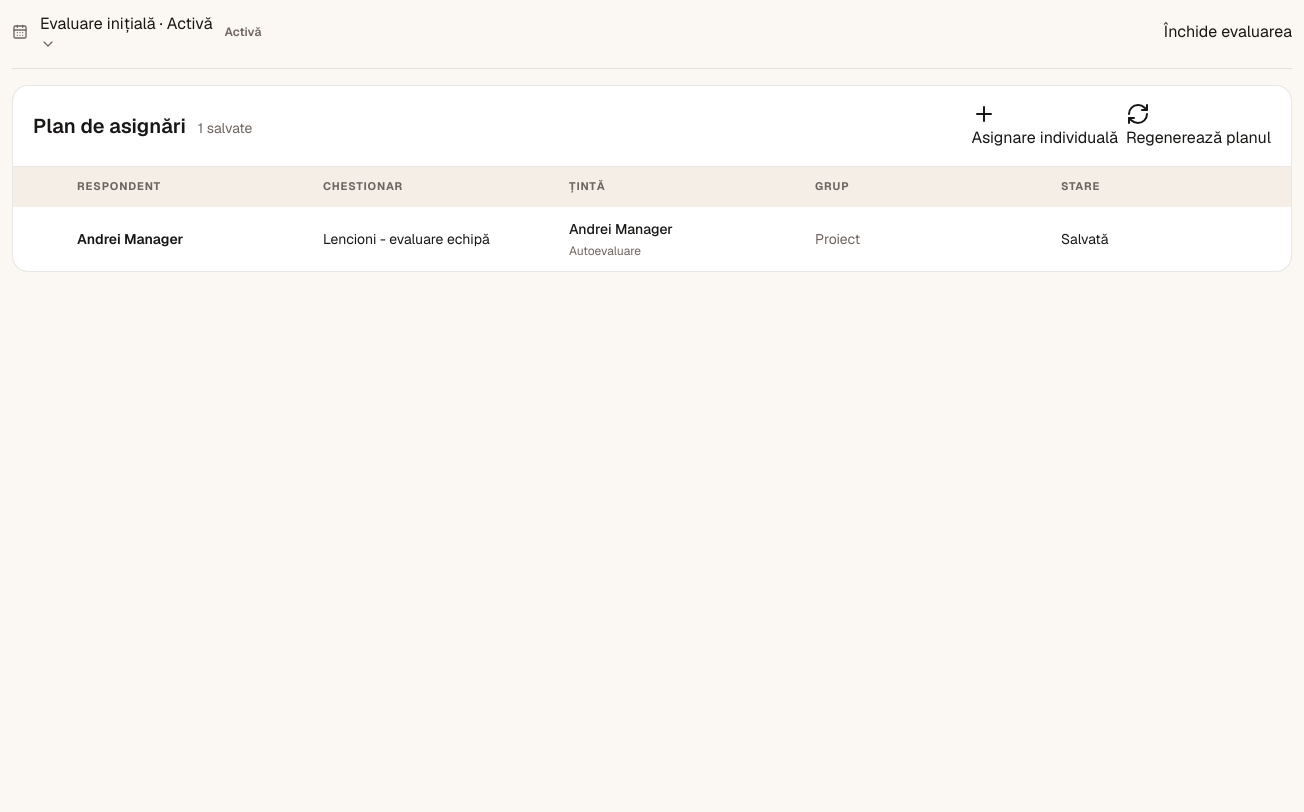
Test case: buildInvitationRows › separates self and person targets inside the same plan scope
The image size is (1304, 812).
Click the button "Regenerează planul". click: click(1198, 126)
box: x1=1126 y1=102 x2=1271 y2=150
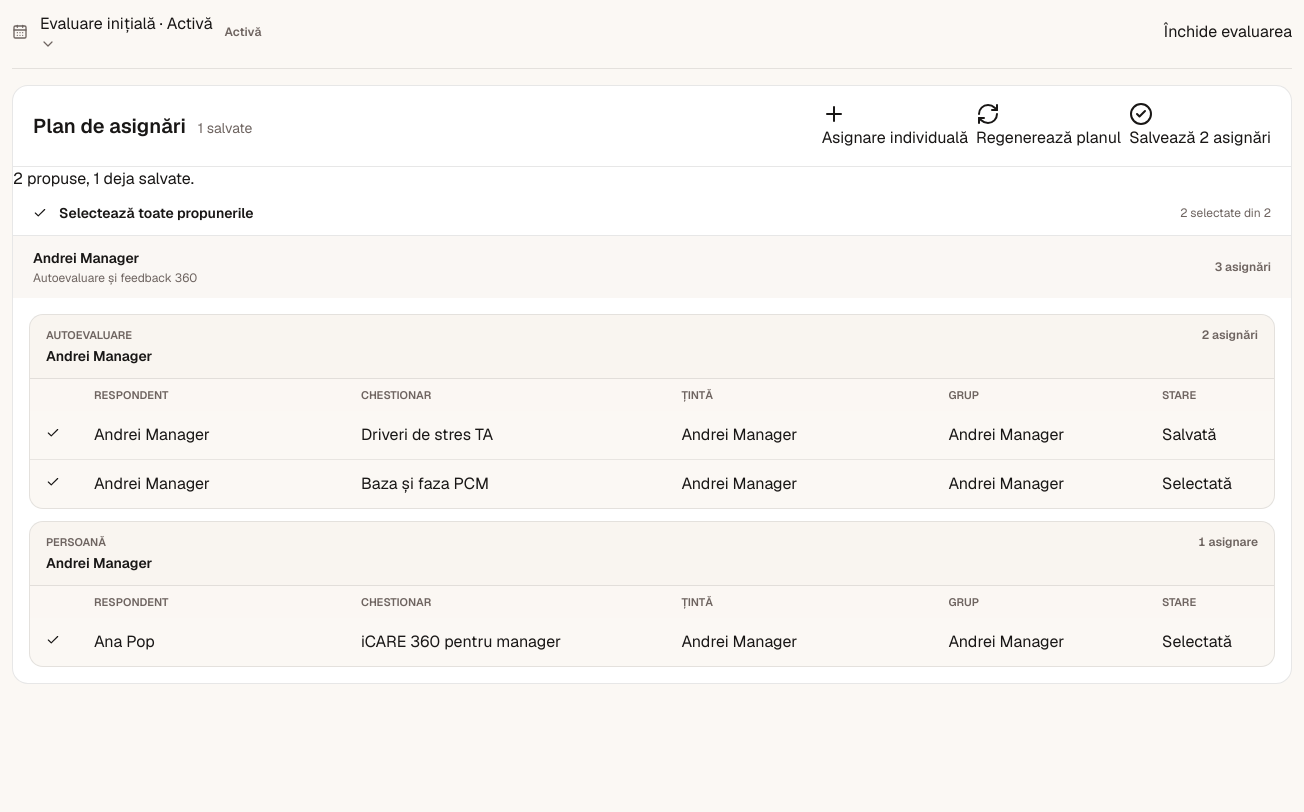
Expected: the text "Driveri de stres TA" is shown, x1=361 y1=424 x2=493 y2=445
Expected: the text "Baza și faza PCM" is shown, x1=361 y1=473 x2=489 y2=494
Expected: the text "Ana Pop" is shown, x1=94 y1=631 x2=155 y2=652
Click the checkbox named "Selectează asignarea pentru Ana Pop". click: click(53, 640)
box: x1=46 y1=633 x2=60 y2=647
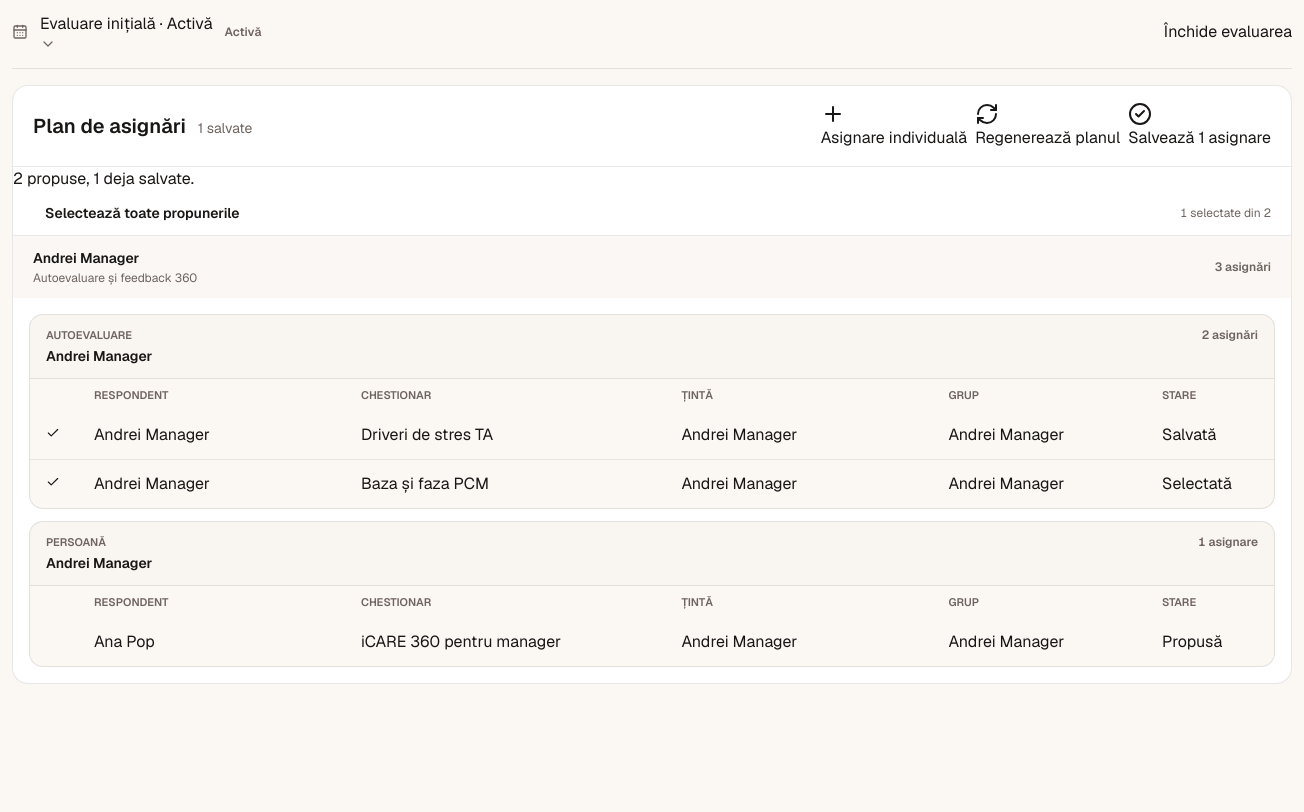
Expected: the button "Salvează 1 asignare" is shown, x1=1128 y1=102 x2=1271 y2=150
